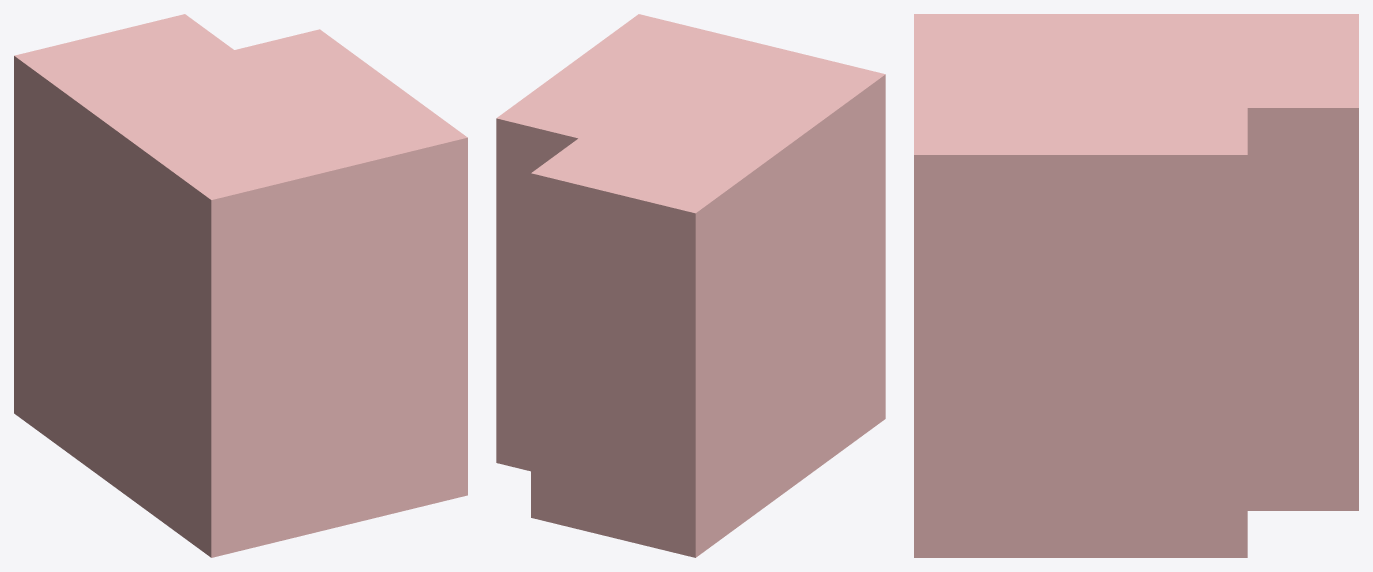
Rendered from pracGenny-16-hand.obj.
The picture shows the model from 3 angles, left to right: view 1: azimuth 30°, elevation 25°; view 2: azimuth 150°, elevation 25°; view 3: azimuth 270°, elevation 25°; orthographic projection. The views are drawn at different scales.
Visible parts, largest first — view 1: hand; view 2: hand; view 3: hand.
Boxes of the visible parts, box(x1,y1,x2,y2) form: hand: box(14, 14, 467, 557); hand: box(496, 14, 885, 557); hand: box(914, 14, 1358, 557).
Size of the model in its own units: 0.3 by 0.4 by 0.4.
Materials: 1 (1 with a texture image).
